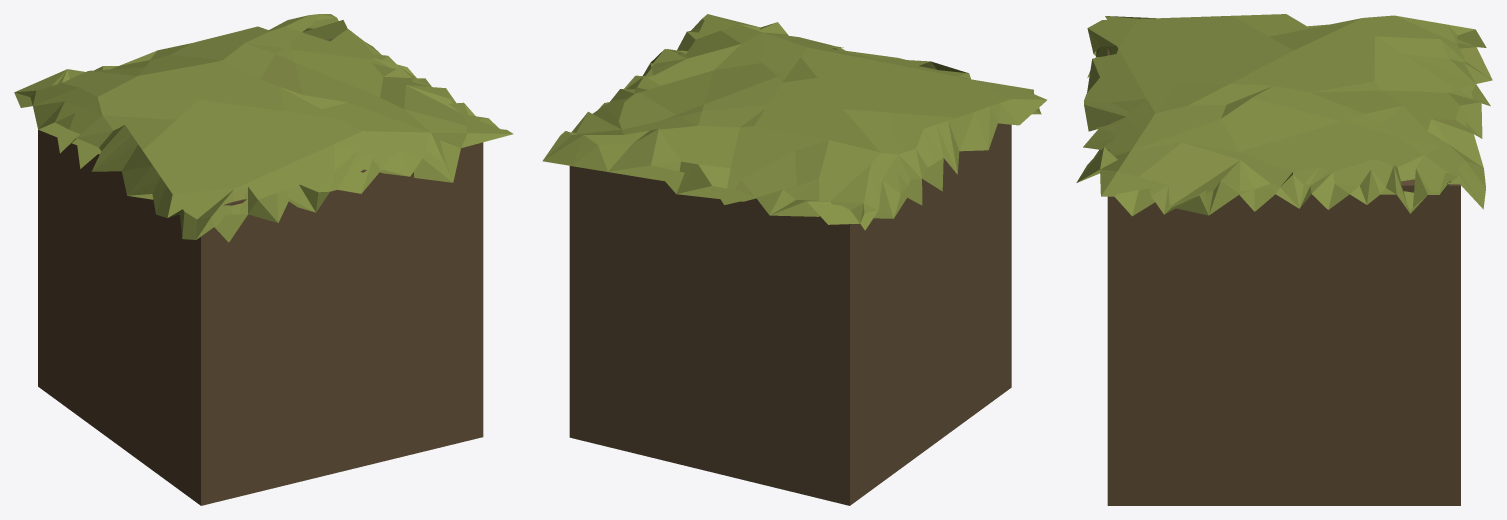
Rendered from dirt2.fbx.
The picture shows the model from 3 angles, left to right: view 1: azimuth 30°, elevation 25°; view 2: azimuth 150°, elevation 25°; view 3: azimuth 270°, elevation 25°; orthographic projection. The views are drawn at different scales.
Parts seen in each view (by area): view 1: Cube, Cube.001; view 2: Cube, Cube.001; view 3: Cube, Cube.001.
Boxes of the visible parts, x1,y1,x2,y2 form: Cube: (38, 38, 483, 505); Cube.001: (14, 14, 513, 242); Cube: (569, 123, 1011, 505); Cube.001: (542, 14, 1046, 230); Cube: (1107, 48, 1460, 505); Cube.001: (1076, 14, 1492, 216).
Size of the model in its own units: 250 by 220 by 236.
